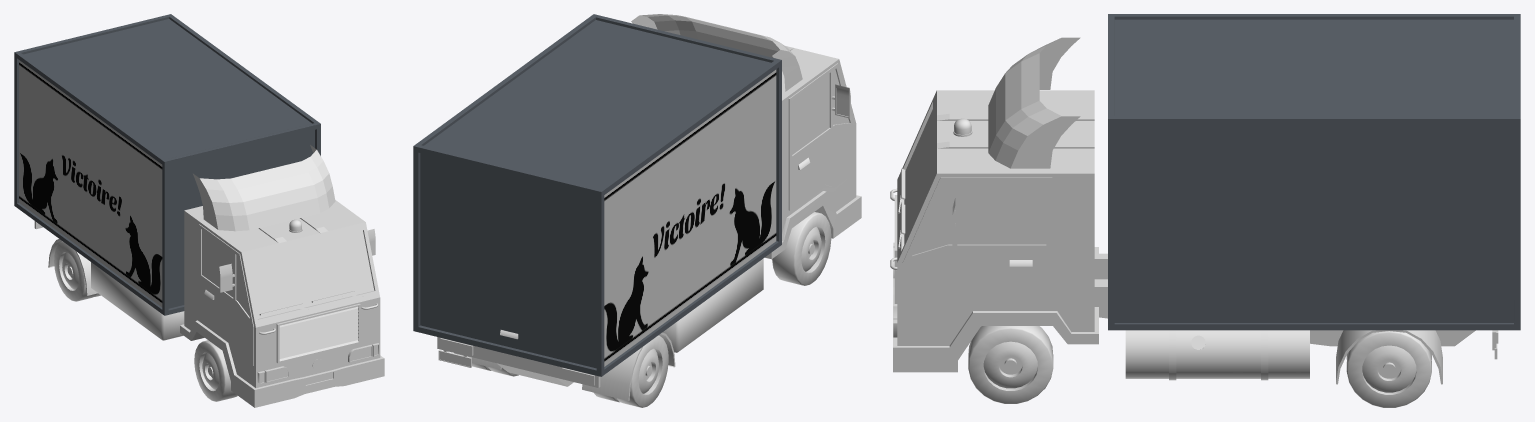
File: truck_victory.fbx
The picture shows the model from 3 angles, left to right: view 1: azimuth 30°, elevation 25°; view 2: azimuth 150°, elevation 25°; view 3: azimuth 270°, elevation 25°; orthographic projection. The views are drawn at different scales.
Parts seen in each view (by area): view 1: 1, cabin, grill, Cube, front_wheel, backwheel, headlights, mirrors, truck; view 2: 1, cabin, Cube, front_wheel, backwheel, truck, back_bumper, taillights, mirrors; view 3: 1, cabin, fuel_reservior, front_wheel_2, backwheel_2, truck.
Boxes of the visible parts, left/top/right/bottom form: 1: left=14, top=14, right=320, bottom=315; cabin: left=180, top=145, right=384, bottom=407; grill: left=276, top=304, right=360, bottom=363; Cube: left=91, top=262, right=184, bottom=340; front_wheel: left=194, top=340, right=237, bottom=401; backwheel: left=54, top=241, right=97, bottom=301; headlights: left=265, top=344, right=372, bottom=382; mirrors: left=219, top=229, right=375, bottom=292; truck: left=48, top=239, right=97, bottom=295; 1: left=413, top=14, right=781, bottom=376; cabin: left=497, top=14, right=861, bottom=386; Cube: left=662, top=258, right=763, bottom=352; front_wheel: left=772, top=212, right=831, bottom=285; backwheel: left=617, top=335, right=668, bottom=407; truck: left=454, top=332, right=675, bottom=400; back_bumper: left=437, top=337, right=600, bottom=387; taillights: left=440, top=338, right=594, bottom=385; mirrors: left=831, top=84, right=850, bottom=118; 1: left=1108, top=14, right=1520, bottom=330; cabin: left=893, top=37, right=1475, bottom=372; fuel_reservior: left=1125, top=330, right=1309, bottom=380; front_wheel_2: left=968, top=326, right=1053, bottom=403; backwheel_2: left=1346, top=331, right=1431, bottom=407; truck: left=1336, top=330, right=1442, bottom=384.
Bounding box in the file's own units: 201 × 261 × 508.
1 material, 1 textured.
